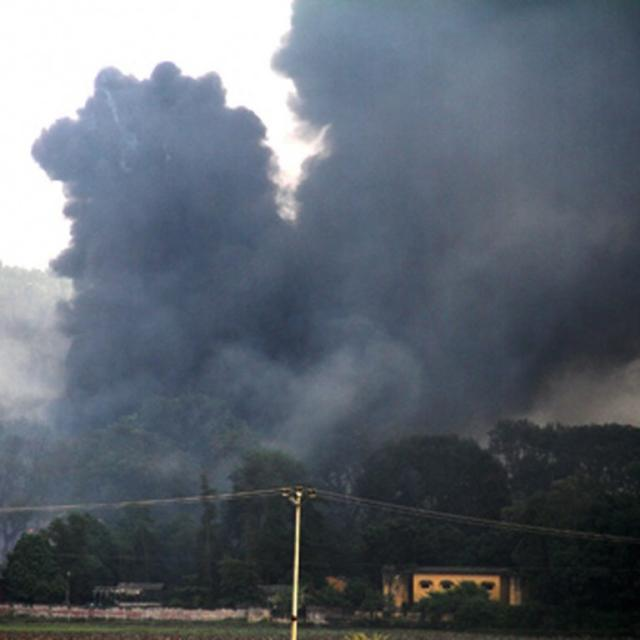Smoke: (268, 0, 640, 431), (2, 54, 270, 501)
